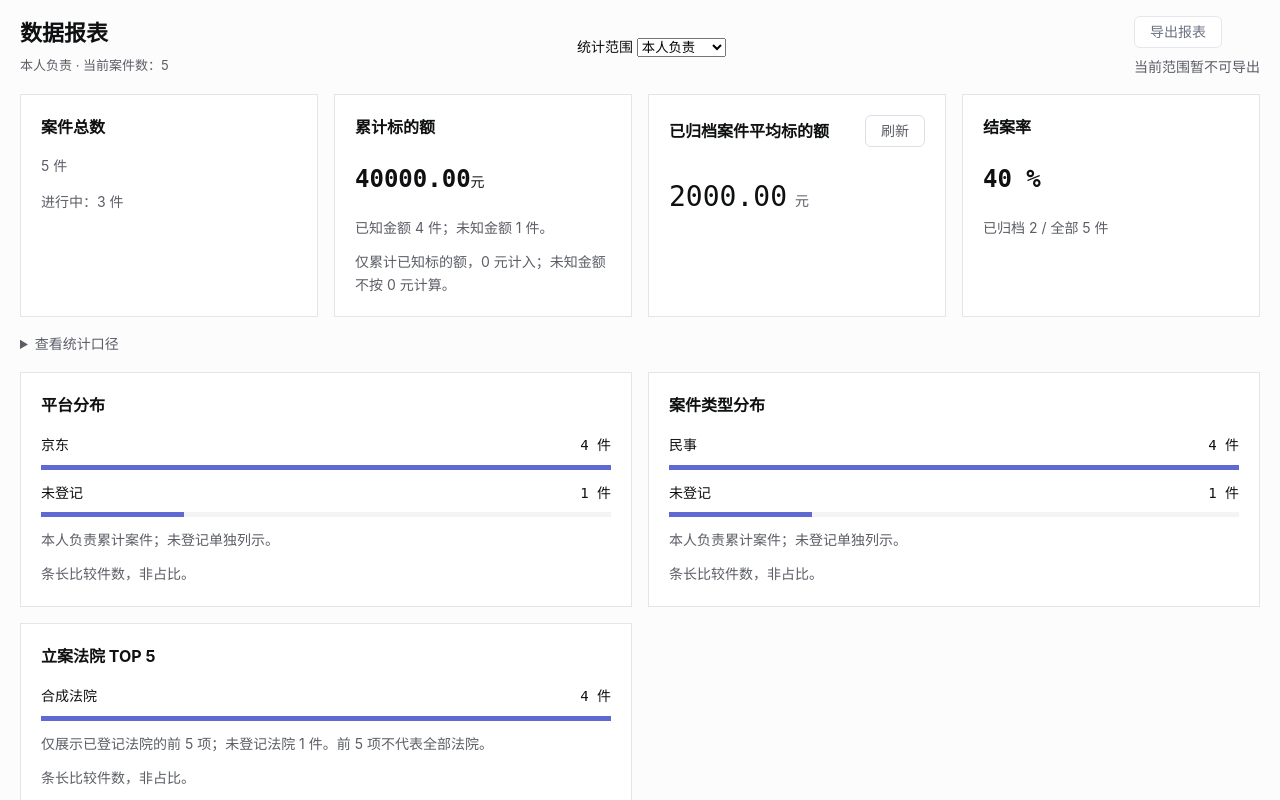
Scenario: real RP001 reports page › aborts and clears the whole old view on selection and ignores late responses
Select "本部门全部" in the dropdown labelled "统计范围" at (681, 48), box [637,38,726,57]
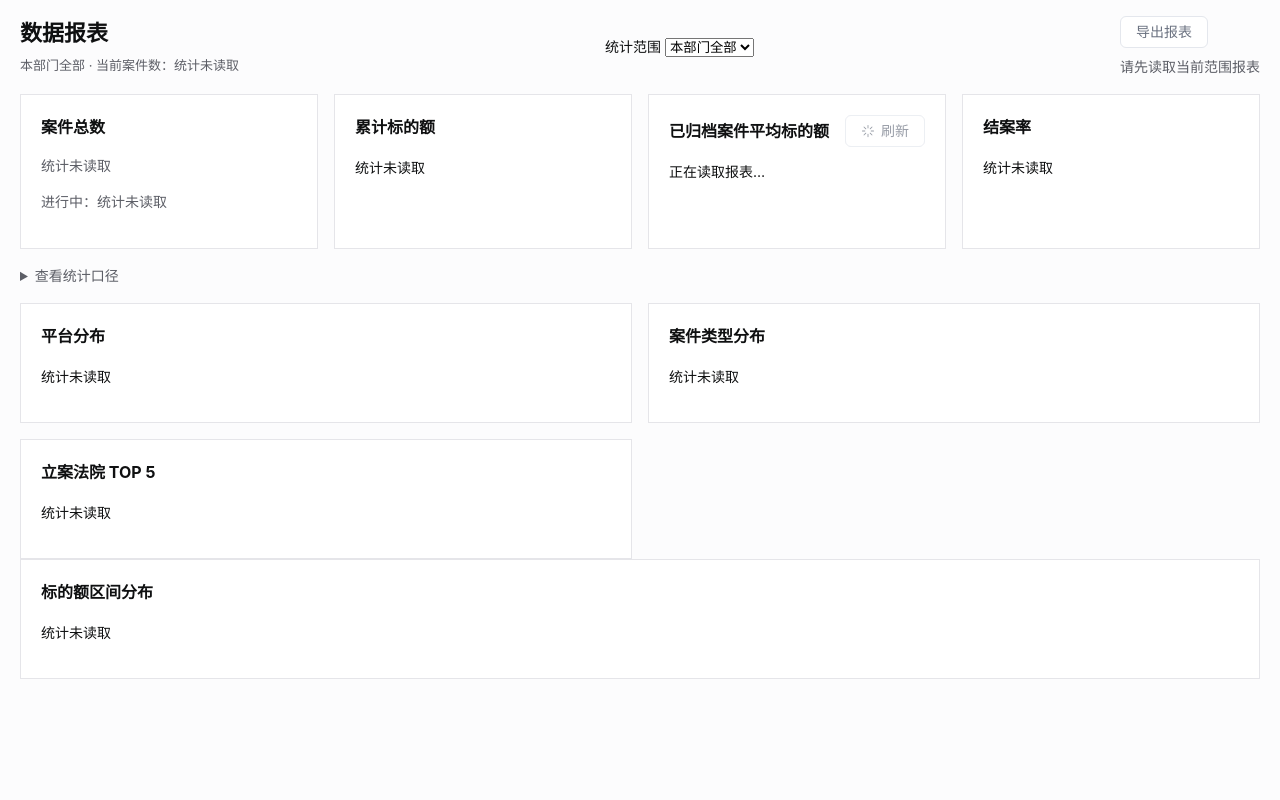
Expected: the text with test id "report-header-count" reads "统计未读取", [174,57,239,73]
Expected: no list items are shown
Select "本人负责" in the dropdown labelled "统计范围" at (710, 48), box [665,38,754,57]
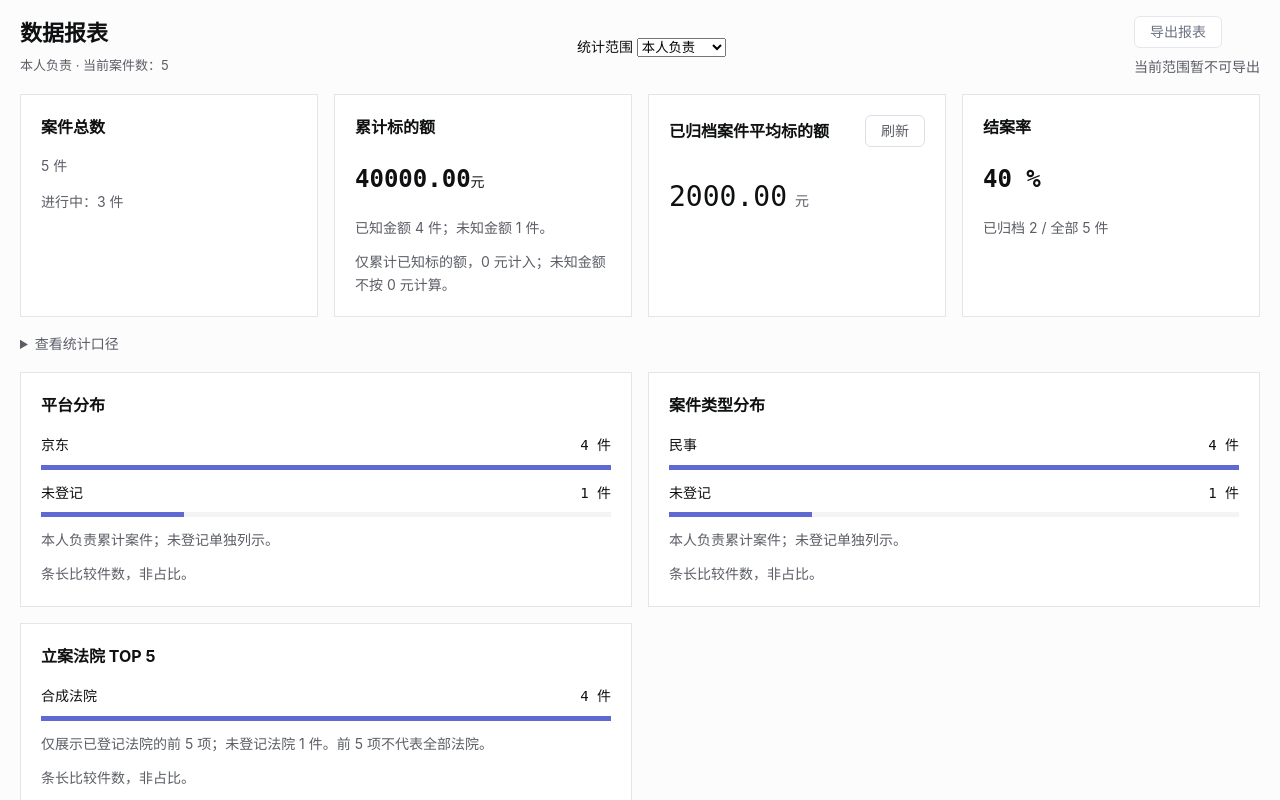
Expected: the text with test id "report-decimal" reads "2000.00", [669,180,787,213]
